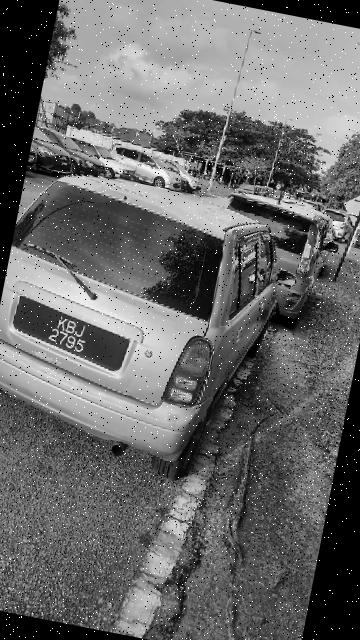License_Plate: (1, 288, 147, 385)
car: (1, 161, 315, 499)
